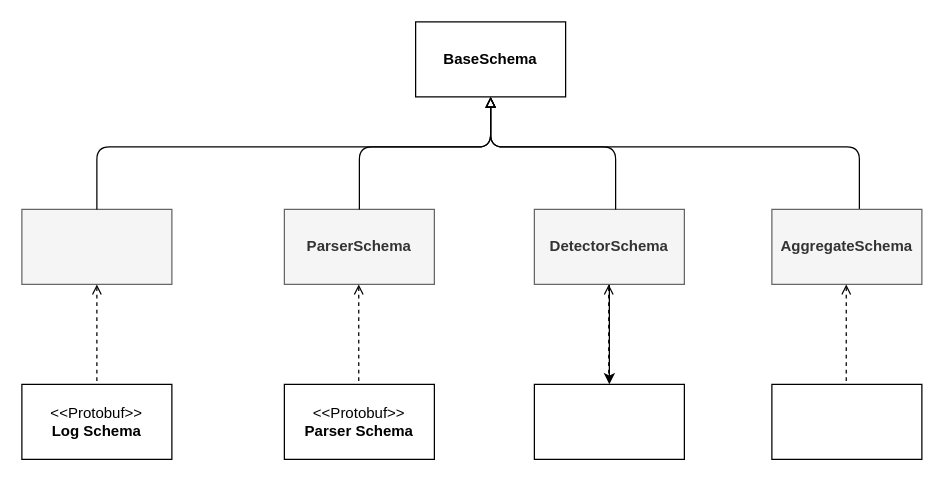
Image size: 944x481. Some labels were removed from this diagram. The shapes that lost their labels are listed below. From the top down, each one's centre as x and y in pixels, then its label:
point 96,246: LogSchema
point 608,421: <<Protobuf>> Detector Schema
point 846,421: <<Protobuf>> Aggregate Schema
